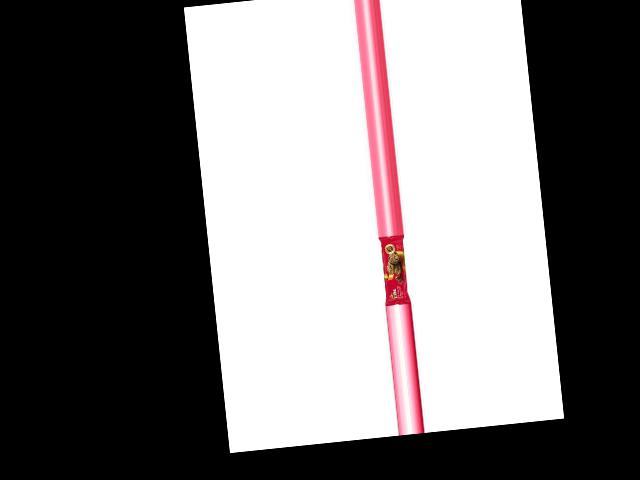chocolate: (379, 235, 413, 306)
